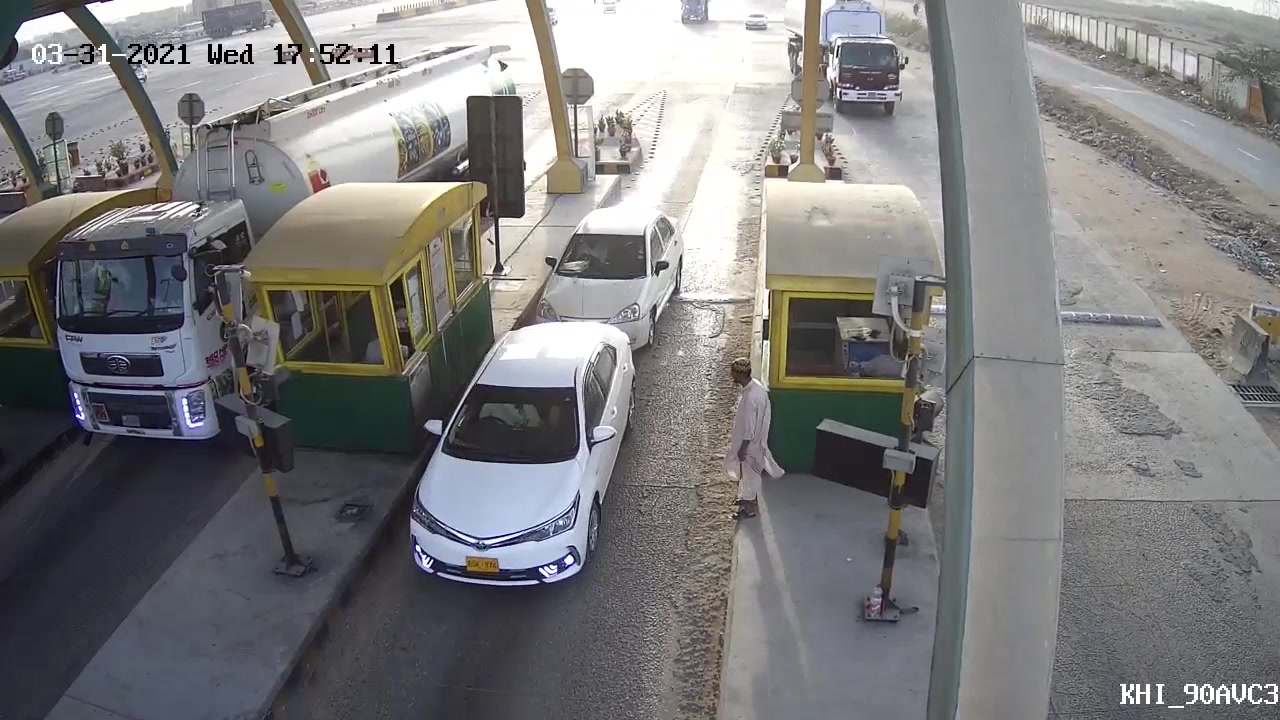F1: (383, 318, 642, 609), (541, 202, 688, 343)
